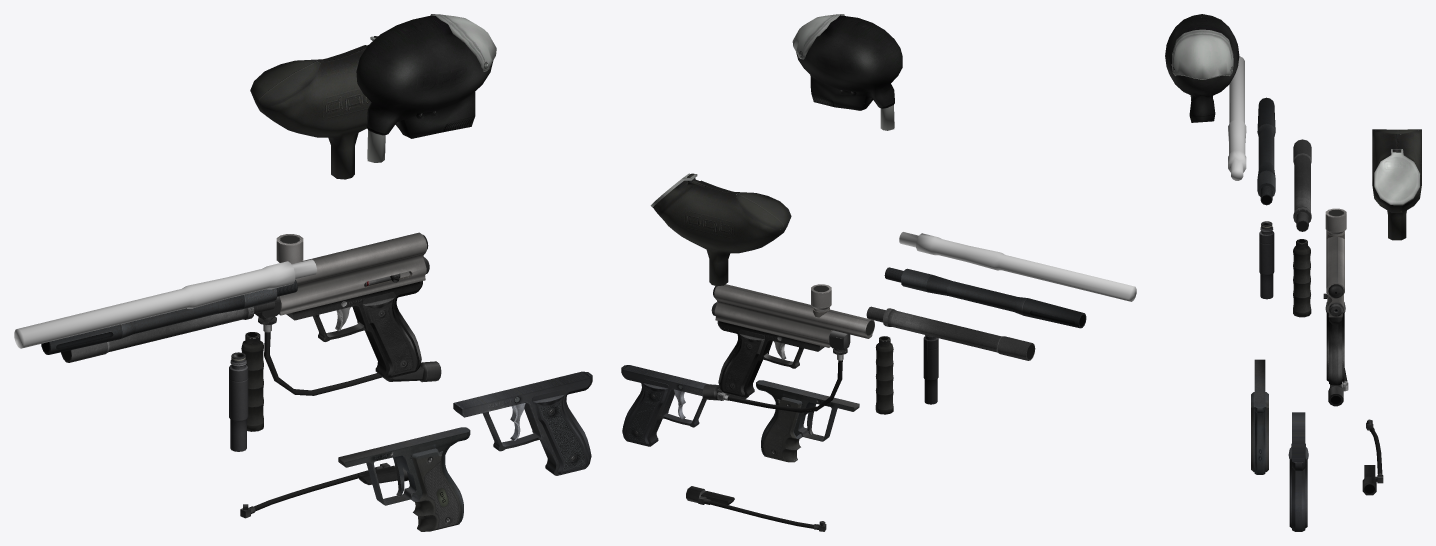
The model's file is blowback_allparts.obj.
The picture shows the model from 3 angles, left to right: view 1: azimuth 30°, elevation 25°; view 2: azimuth 150°, elevation 25°; view 3: azimuth 270°, elevation 25°; orthographic projection. The views are drawn at different scales.
Parts seen in each view (by area): view 1: 687, default, 65499d, 4864456, 8675, (null), (n64864, 486, 5687, 454, Regroup02, sdfa; view 2: 687, 65499d, default, 8675, 4864456, (null), (n64864, 486, 454, sdfa, 5687, Regroup02; view 3: 687, default, Regroup02, 65499d, 4864456, sada, (null), 8675, (n64864, 486, 454, 5687 (+1 smaller).
Part boxes in pixels (x1,y1,x2,y2): 687: [255, 232, 441, 395]; default: [356, 16, 493, 138]; 65499d: [250, 36, 377, 179]; 4864456: [453, 371, 592, 475]; 8675: [14, 259, 316, 348]; (null): [338, 427, 470, 531]; (n64864: [41, 280, 297, 354]; 486: [61, 301, 274, 362]; 5687: [229, 352, 248, 451]; 454: [241, 332, 263, 431]; Regroup02: [430, 14, 496, 71]; sdfa: [240, 463, 408, 518]; 687: [702, 284, 874, 412]; 65499d: [653, 173, 791, 286]; default: [796, 15, 902, 110]; 8675: [899, 232, 1136, 301]; 4864456: [621, 365, 721, 446]; (null): [756, 380, 859, 462]; (n64864: [884, 267, 1086, 328]; 486: [866, 306, 1035, 360]; 454: [875, 336, 893, 414]; sdfa: [686, 486, 826, 531]; 5687: [923, 335, 938, 404]; Regroup02: [792, 14, 844, 59]; 687: [1323, 208, 1348, 406]; default: [1165, 14, 1239, 122]; Regroup02: [1171, 29, 1233, 79]; 65499d: [1372, 129, 1421, 240]; 4864456: [1288, 412, 1308, 531]; sada: [1374, 149, 1420, 205]; (null): [1251, 359, 1268, 474]; 8675: [1228, 56, 1246, 180]; (n64864: [1257, 97, 1275, 205]; 486: [1293, 139, 1311, 231]; 454: [1293, 239, 1311, 317]; 5687: [1259, 221, 1274, 299].
Bounding box in the file's own units: 27.66 × 24.08 × 12.85.
